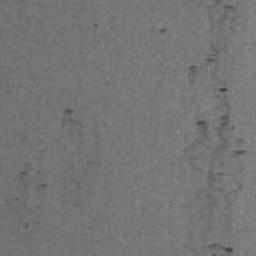Inclusion: (178, 0, 248, 256), (59, 108, 83, 140), (17, 161, 33, 179), (38, 182, 47, 187)
